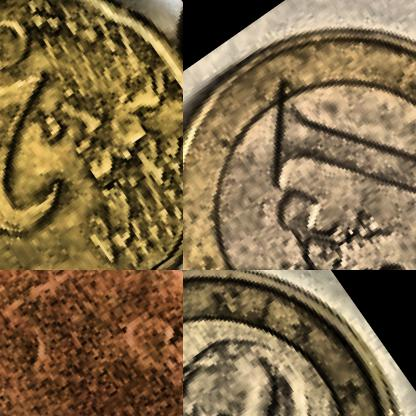coin: (183, 0, 415, 269), (0, 0, 182, 269), (183, 270, 415, 415), (0, 270, 182, 415)
